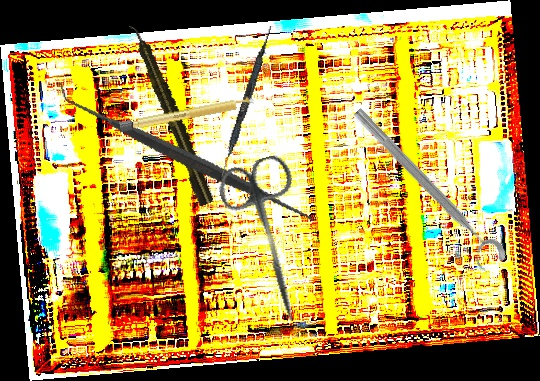Fixation Ring: (341, 103, 510, 278)
Handpiece: (126, 20, 216, 208)
Iris Scissors: (213, 151, 331, 331)
Scalpel Handle: (119, 96, 255, 133)
Spatula Surgical: (59, 31, 318, 286), (216, 23, 274, 186)
